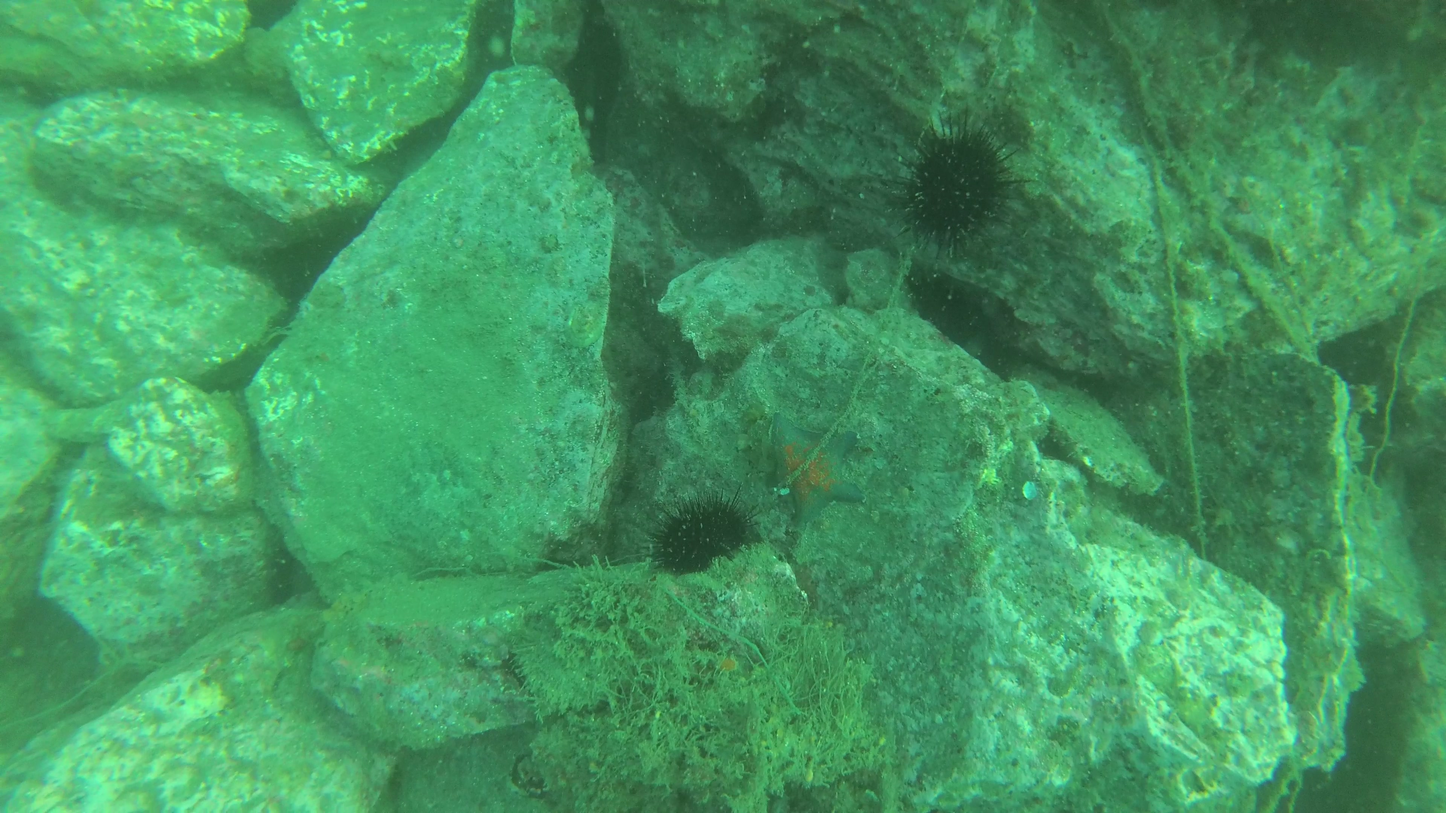holothurian: (747, 410, 874, 540)
starfish: (881, 108, 1038, 260), (639, 490, 769, 583)
